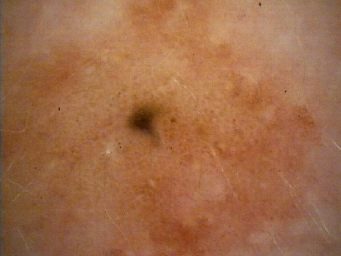nevus: (131, 110, 166, 142)
